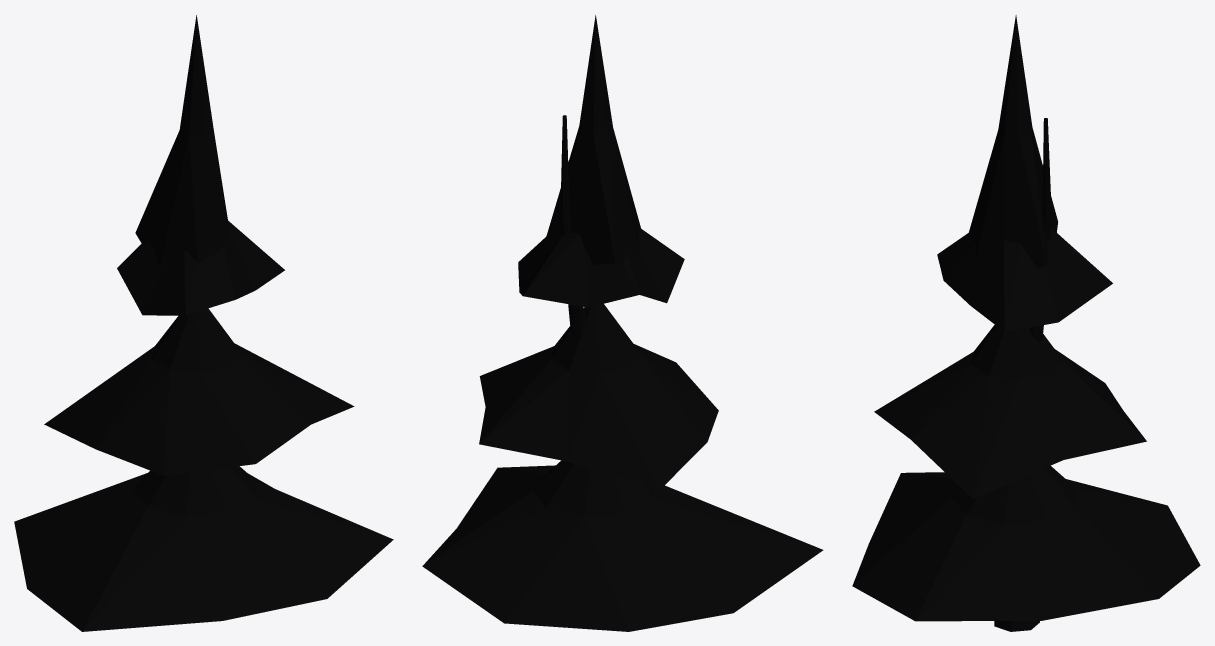
File: SM_pine_sparse.fbx
The picture shows the model from 3 angles, left to right: view 1: azimuth 30°, elevation 25°; view 2: azimuth 150°, elevation 25°; view 3: azimuth 270°, elevation 25°; orthographic projection.
Parts seen in each view (by area): view 1: pine_sparse_crown; view 2: pine_sparse_crown; view 3: pine_sparse_crown.
Boxes of the visible parts, x1,y1,x2,y2 form: pine_sparse_crown: [14, 15, 393, 631]; pine_sparse_crown: [422, 15, 823, 631]; pine_sparse_crown: [852, 15, 1200, 621].
Bounding box in the file's own units: 5.37 × 9.63 × 5.
